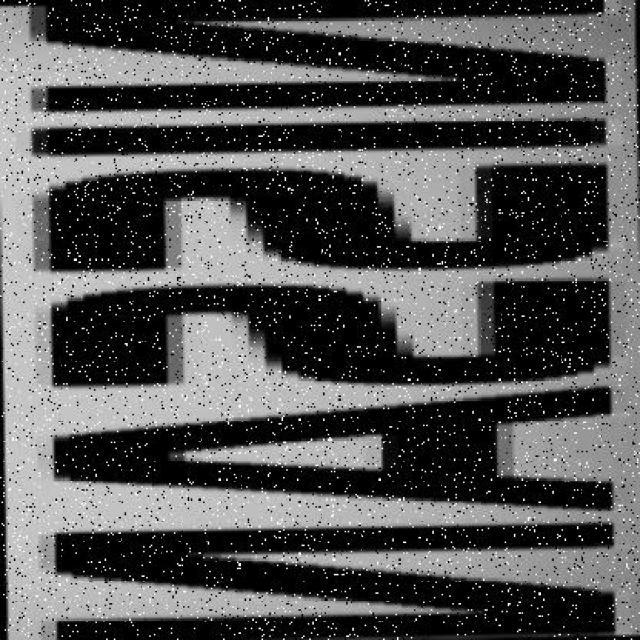Nissan: (0, 0, 632, 638)
